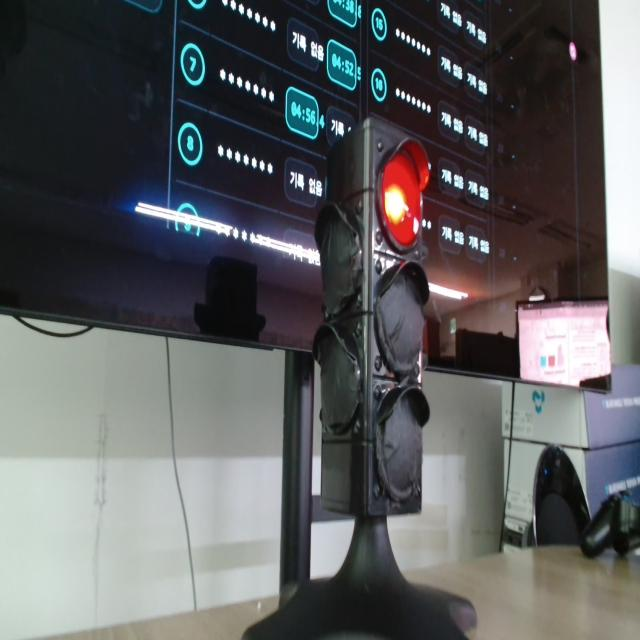red_light: (381, 153, 422, 249)
